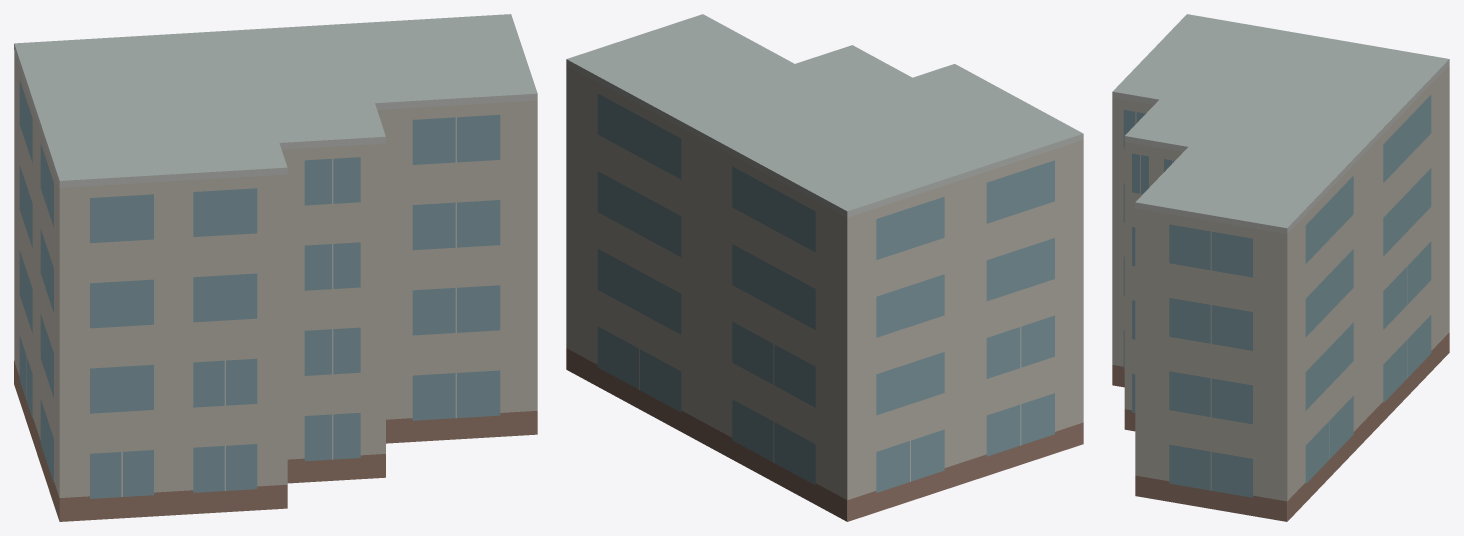
Rendered from residential-ecf6c10e-641a-4abd-b41b-d03c9fd44f7c.glb.
3 renders of one model, left to right at view 1: azimuth 30°, elevation 25°; view 2: azimuth 150°, elevation 25°; view 3: azimuth 270°, elevation 25°, orthographic. The views are drawn at different scales.
Parts seen in each view (by area): view 1: residential-ecf6c10e-641a-4abd-b41b-d03c9fd44f7c.tmp; view 2: residential-ecf6c10e-641a-4abd-b41b-d03c9fd44f7c.tmp; view 3: residential-ecf6c10e-641a-4abd-b41b-d03c9fd44f7c.tmp.
Boxes of the visible parts, x1,y1,x2,y2 form: residential-ecf6c10e-641a-4abd-b41b-d03c9fd44f7c.tmp: [14, 14, 537, 521]; residential-ecf6c10e-641a-4abd-b41b-d03c9fd44f7c.tmp: [566, 14, 1083, 521]; residential-ecf6c10e-641a-4abd-b41b-d03c9fd44f7c.tmp: [1112, 14, 1449, 521].
Bounding box in the file's own units: 19.1 × 12.2 × 12.7.
